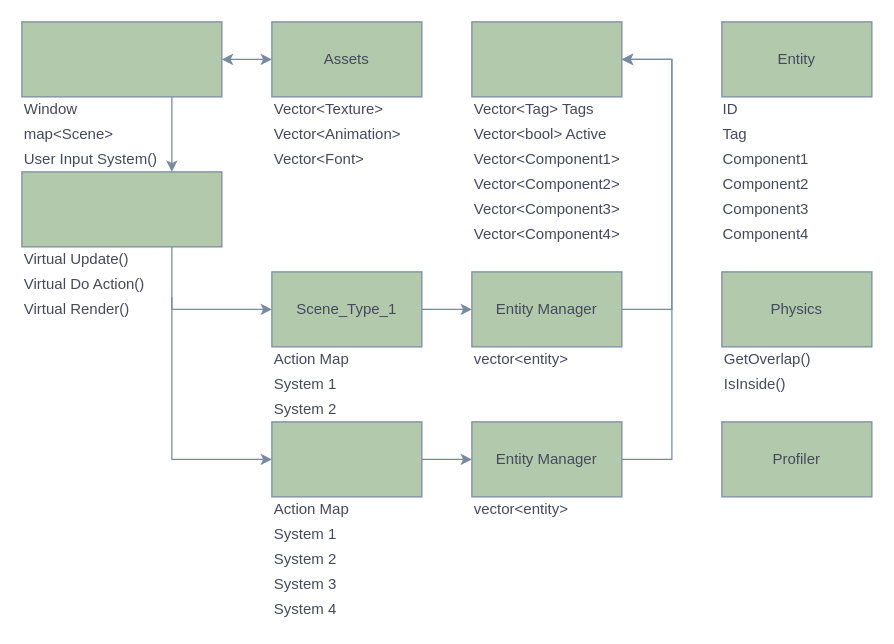
Some shapes in this 894 by 644 pixel diagram are drawn without their labels. Each missing label, with the centre of its shape:
Entity/Component Memory Pool: pixel 546 59
Game Engine: pixel 121 59
Scene Base: pixel 121 209
Scene_Type_2: pixel 346 459
